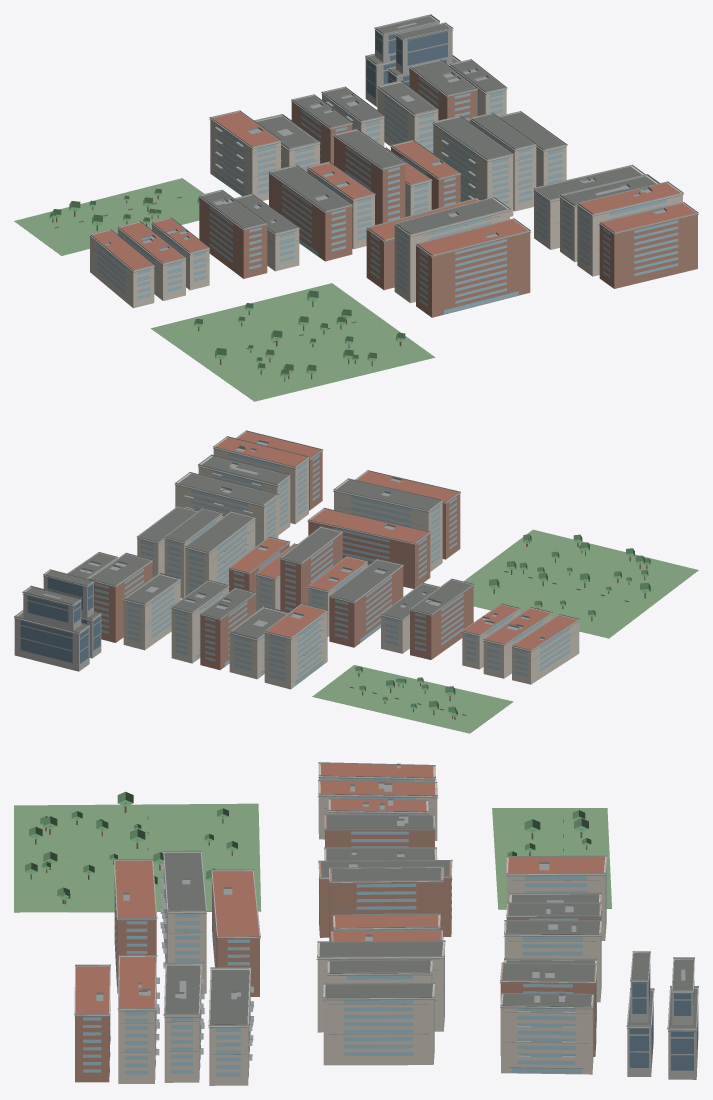
File: tile-m001-m003.glb
The picture shows the model from 3 angles, top to bottom: view 1: azimuth 30°, elevation 25°; view 2: azimuth 150°, elevation 25°; view 3: azimuth 270°, elevation 25°; orthographic projection. The views are drawn at different scales.
Parts seen in each view (by area): view 1: neighborhood-park-block-099-mesh-0, neighborhood-park-block-101-mesh-5, building-0496-mesh-57, building-0563-mesh-141, building-0498-mesh-63, building-0434-mesh-31, building-0503-mesh-93, building-0565-mesh-147, building-0500-mesh-76, building-0496-mesh-58, building-0431-mesh-10, building-0495-mesh-50 (+57 smaller); view 2: neighborhood-park-block-099-mesh-0, neighborhood-park-block-101-mesh-5, building-0498-mesh-63, building-0494-mesh-44, building-0434-mesh-31, building-0503-mesh-93, building-0495-mesh-50, building-0500-mesh-76, building-0574-mesh-197, building-0569-mesh-165, building-0431-mesh-10, building-0560-mesh-120 (+64 smaller); view 3: neighborhood-park-block-099-mesh-0, neighborhood-park-block-101-mesh-5, building-0567-mesh-159, building-0571-mesh-178, building-0500-mesh-76, building-0494-mesh-47, building-0567-mesh-160, building-0571-mesh-179, building-0562-mesh-134, building-0495-mesh-54, building-0496-mesh-60, neighborhood-park-block-099-mesh-3 (+60 smaller).
Boxes of the visible parts, x1=… form: neighborhood-park-block-099-mesh-0: x1=151, y1=283, x2=435, y2=401; neighborhood-park-block-101-mesh-5: x1=14, y1=178, x2=204, y2=255; building-0496-mesh-57: x1=416, y1=220, x2=530, y2=317; building-0563-mesh-141: x1=599, y1=203, x2=697, y2=288; building-0498-mesh-63: x1=269, y1=166, x2=352, y2=261; building-0434-mesh-31: x1=199, y1=197, x2=267, y2=278; building-0503-mesh-93: x1=210, y1=119, x2=280, y2=200; building-0565-mesh-147: x1=433, y1=117, x2=513, y2=216; building-0500-mesh-76: x1=334, y1=130, x2=405, y2=224; building-0496-mesh-58: x1=419, y1=239, x2=518, y2=314; building-0431-mesh-10: x1=90, y1=236, x2=154, y2=308; building-0495-mesh-50: x1=394, y1=198, x2=509, y2=303; neighborhood-park-block-099-mesh-0: x1=464, y1=529, x2=698, y2=638; neighborhood-park-block-101-mesh-5: x1=312, y1=665, x2=513, y2=733; building-0498-mesh-63: x1=329, y1=560, x2=403, y2=647; building-0494-mesh-44: x1=308, y1=509, x2=430, y2=588; building-0434-mesh-31: x1=410, y1=585, x2=473, y2=659; building-0503-mesh-93: x1=264, y1=611, x2=327, y2=689; building-0495-mesh-50: x1=334, y1=479, x2=442, y2=571; building-0500-mesh-76: x1=280, y1=527, x2=342, y2=612; building-0574-mesh-197: x1=20, y1=620, x2=88, y2=663; building-0569-mesh-165: x1=123, y1=574, x2=180, y2=650; building-0431-mesh-10: x1=512, y1=620, x2=579, y2=684; building-0560-mesh-120: x1=175, y1=473, x2=278, y2=546; neighborhood-park-block-099-mesh-0: x1=14, y1=803, x2=261, y2=912; neighborhood-park-block-101-mesh-5: x1=492, y1=808, x2=611, y2=909; building-0567-mesh-159: x1=323, y1=984, x2=434, y2=1065; building-0571-mesh-178: x1=501, y1=994, x2=593, y2=1074; building-0500-mesh-76: x1=329, y1=868, x2=443, y2=941; building-0494-mesh-47: x1=212, y1=871, x2=259, y2=936; building-0567-mesh-160: x1=343, y1=998, x2=434, y2=1055; building-0571-mesh-179: x1=512, y1=1008, x2=593, y2=1073; building-0562-mesh-134: x1=118, y1=956, x2=156, y2=1083; building-0495-mesh-54: x1=164, y1=852, x2=205, y2=910; building-0496-mesh-60: x1=115, y1=860, x2=155, y2=917; neighborhood-park-block-099-mesh-3: x1=25, y1=791, x2=237, y2=900.
Size of the model in its own units: 273 by 41.83 by 280.
